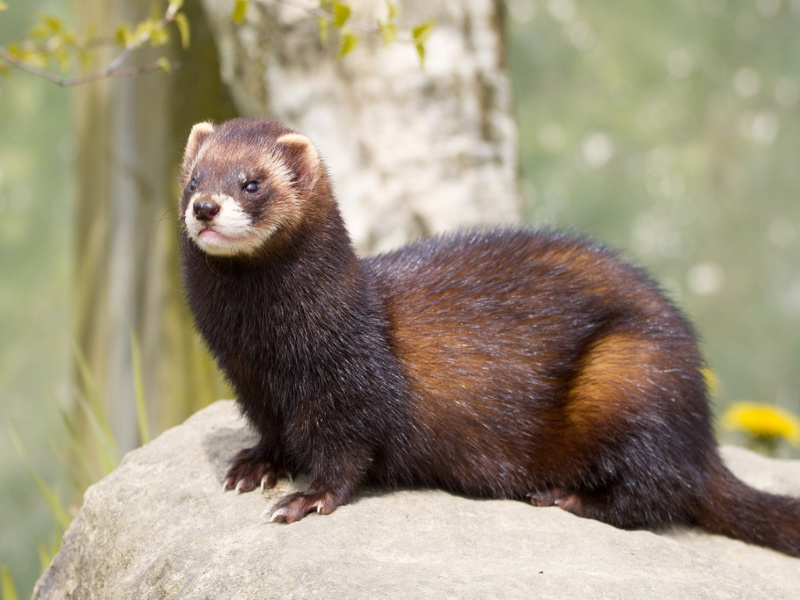minkish: (171, 115, 795, 553)
